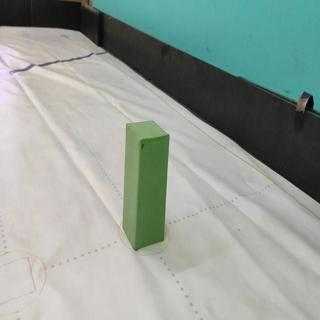greenbox: (120, 119, 172, 253)
